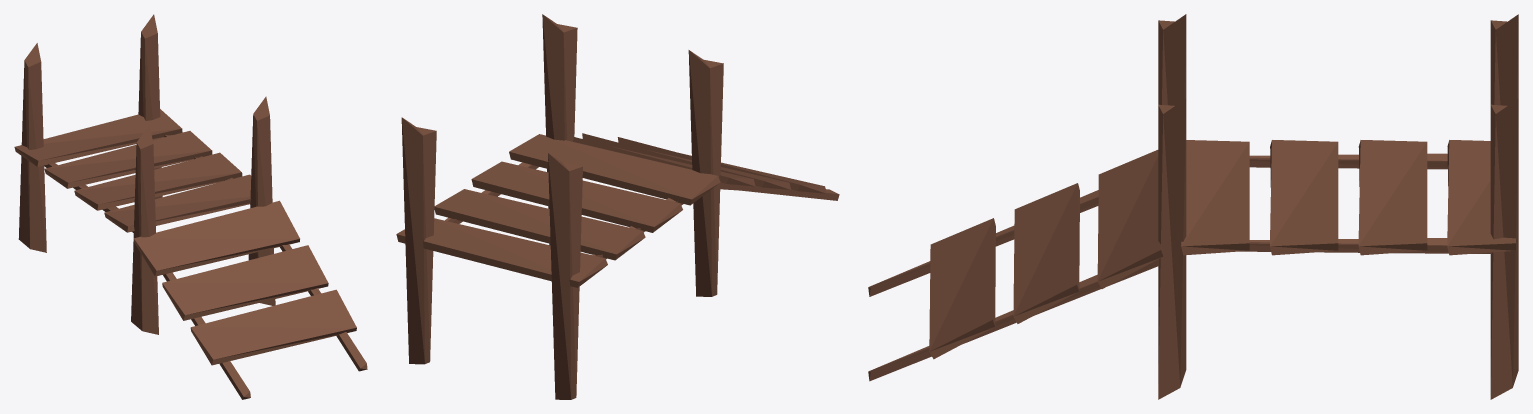
The model's file is Bruecke_Mesh 1.fbx.
3 views of the same model, side by side, from view 1: azimuth 30°, elevation 25°; view 2: azimuth 150°, elevation 25°; view 3: azimuth 270°, elevation 25° (orthographic). The views are drawn at different scales.
Visible parts, largest first — view 1: Bruecke:Brueckenaufgang, Bruecke:Brueckensteg, polySurface4, polySurface3; view 2: Bruecke:Brueckensteg, polySurface3, polySurface4, Bruecke:Brueckenaufgang; view 3: Bruecke:Brueckensteg, Bruecke:Brueckenaufgang, polySurface4, polySurface3.
Boxes of the visible parts, x1,y1,x2,y2 form: Bruecke:Brueckenaufgang: (133, 200, 367, 399); Bruecke:Brueckensteg: (14, 109, 251, 232); polySurface4: (131, 96, 275, 334); polySurface3: (18, 14, 162, 252); Bruecke:Brueckensteg: (396, 134, 720, 287); polySurface3: (401, 117, 582, 399); polySurface4: (542, 14, 723, 296); Bruecke:Brueckenaufgang: (573, 133, 839, 200); Bruecke:Brueckensteg: (1181, 140, 1515, 255); Bruecke:Brueckenaufgang: (868, 150, 1184, 381); polySurface4: (1158, 14, 1186, 399); polySurface3: (1490, 14, 1518, 399).
Size of the model in its own units: 45 by 60.06 by 117.
